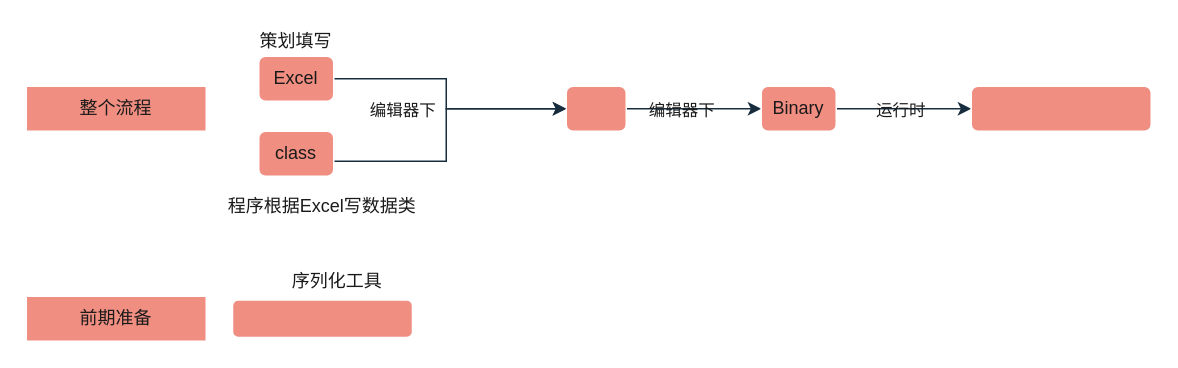
The diagram is 1178 pixels wide and 368 high, and some of its shapes have lost their labels. The centre of each missing label's shape, as x and y in pixels:
"BinarySerializeOpt" goes at (x=321, y=318).
"class的实例化数据" goes at (x=1060, y=108).
"xml" goes at (x=595, y=108).
